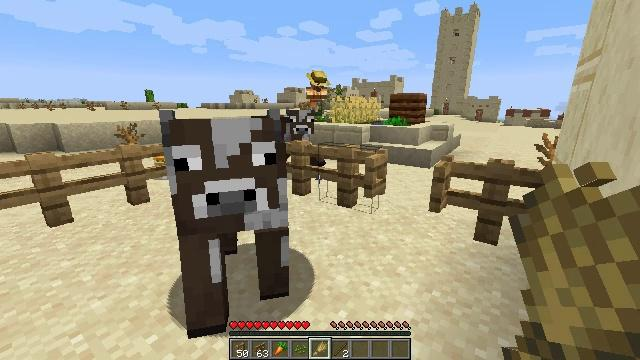cow: (162, 113, 292, 330), (285, 109, 326, 164)
